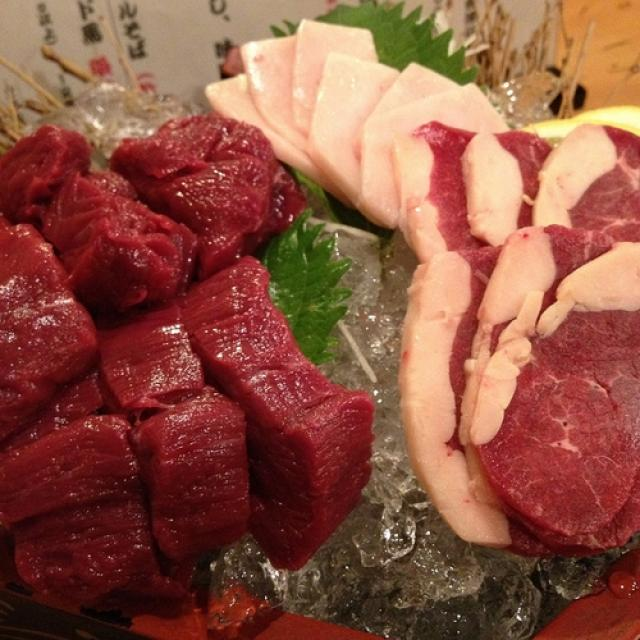刺身生食: (5, 13, 634, 628)
